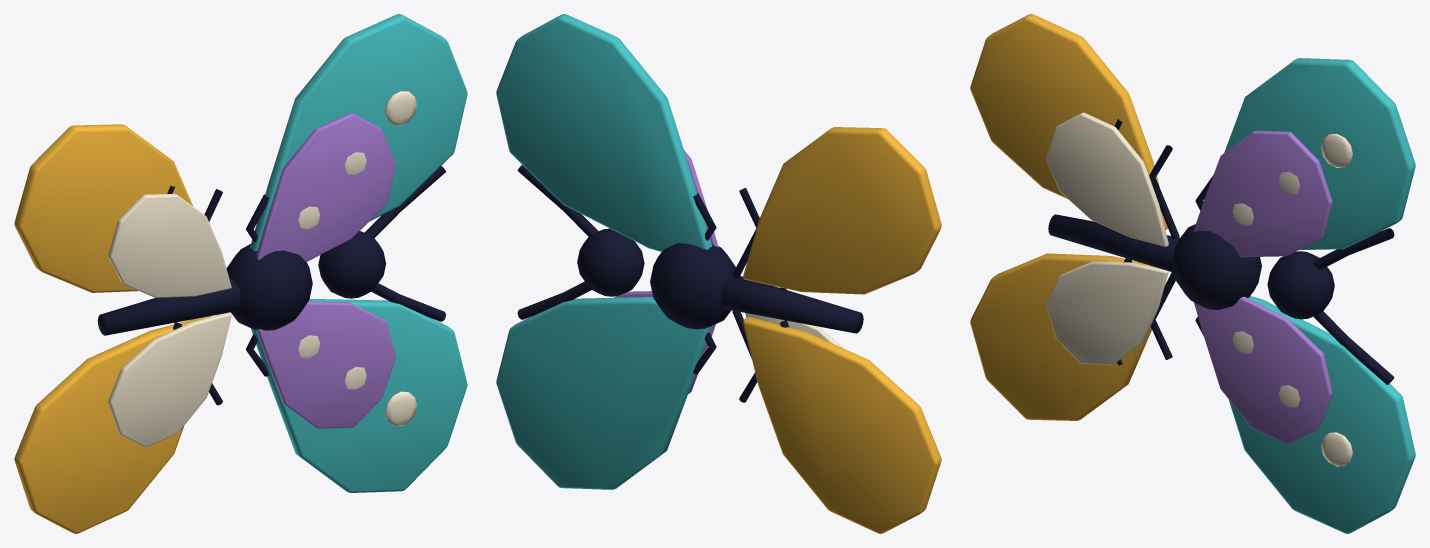
File: r048_butterfly_world_butterfly_environment_family_butterfly_02.glb
The picture shows the model from 3 angles, left to right: view 1: azimuth 30°, elevation 25°; view 2: azimuth 150°, elevation 25°; view 3: azimuth 330°, elevation 25°; orthographic projection.
Parts seen in each view (by area): view 1: r048_butterfly_world_butterfly_environment_family_butterfly_; view 2: r048_butterfly_world_butterfly_environment_family_butterfly_; view 3: r048_butterfly_world_butterfly_environment_family_butterfly_.
Part boxes in pixels (box(x1,y1,x2,y2)): r048_butterfly_world_butterfly_environment_family_butterfly_: box(14, 14, 467, 533); r048_butterfly_world_butterfly_environment_family_butterfly_: box(496, 14, 941, 533); r048_butterfly_world_butterfly_environment_family_butterfly_: box(970, 14, 1415, 533).
Size of the model in its own units: 3.26 by 3.31 by 0.5.
